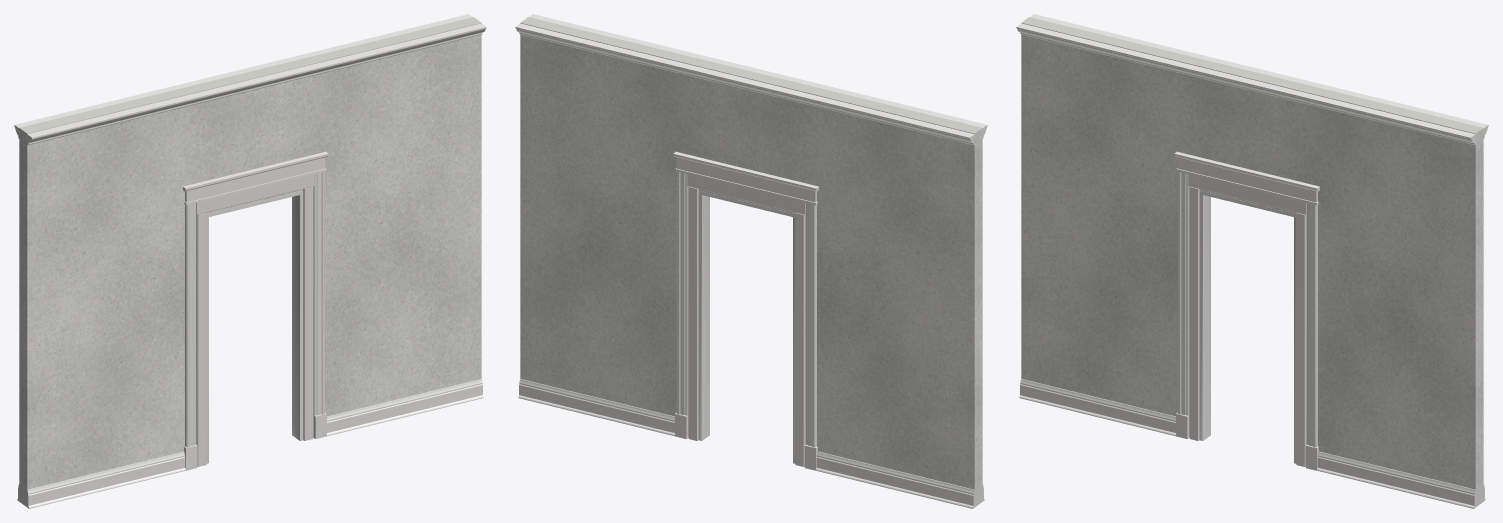
The picture shows the model from 3 angles, left to right: view 1: azimuth 30°, elevation 25°; view 2: azimuth 150°, elevation 25°; view 3: azimuth 330°, elevation 25°; orthographic projection.
Parts seen in each view (by area): view 1: cw_400_d_plaster, molduras, cw_400_d_frame; view 2: cw_400_d_plaster, molduras, cw_400_d_frame; view 3: cw_400_d_plaster, molduras, cw_400_d_frame.
Part boxes in pixels (box(x1,y1,x2,y2)): cw_400_d_plaster: box(19, 17, 481, 507); molduras: box(14, 14, 486, 508); cw_400_d_frame: box(196, 174, 314, 466); cw_400_d_plaster: box(520, 17, 982, 507); molduras: box(515, 14, 987, 508); cw_400_d_frame: box(687, 174, 805, 466); cw_400_d_plaster: box(1021, 17, 1483, 507); molduras: box(1016, 14, 1488, 508); cw_400_d_frame: box(1188, 174, 1306, 466).
Size of the model in its own units: 4 by 3.14 by 0.27.
3 materials, 1 textured.
